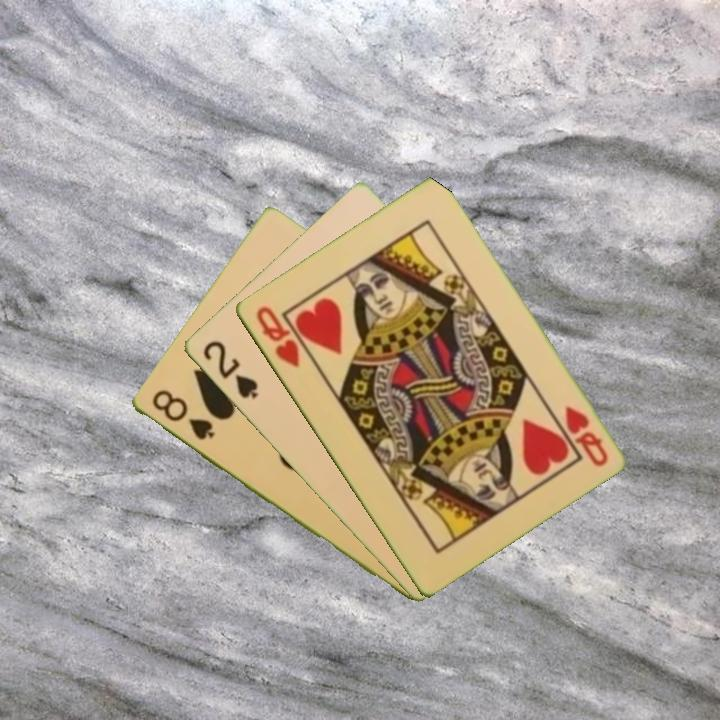2s: (198, 337, 261, 402)
8s: (147, 386, 217, 444)
Qh: (560, 402, 611, 470), (252, 302, 302, 370)
